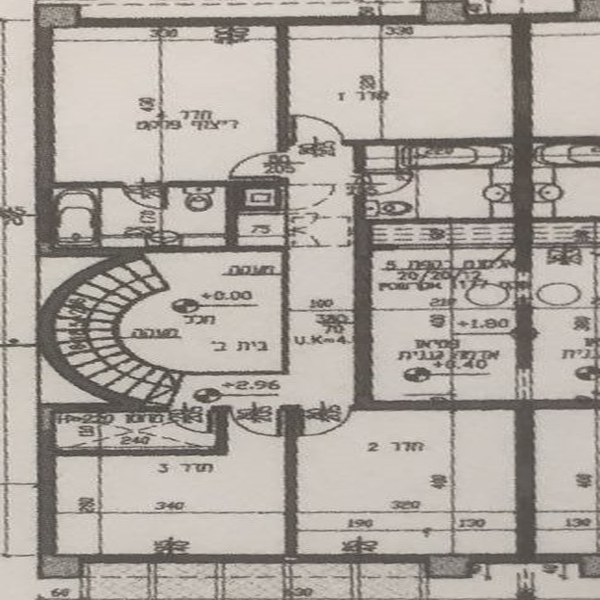door: (293, 110, 345, 155), (298, 401, 358, 439), (226, 404, 281, 444), (284, 211, 327, 249), (228, 151, 277, 180), (290, 182, 339, 210)
room: (31, 17, 297, 256), (362, 128, 545, 408), (287, 394, 548, 566), (31, 399, 300, 564), (267, 10, 539, 146)
wall: (348, 133, 377, 401), (31, 21, 57, 252), (510, 20, 532, 271), (58, 545, 280, 567), (38, 404, 62, 580), (512, 415, 540, 551), (307, 549, 520, 566), (280, 406, 303, 555), (58, 444, 234, 463), (77, 15, 422, 24), (58, 242, 293, 255), (58, 175, 288, 188), (367, 403, 597, 414), (273, 19, 290, 151), (52, 396, 155, 416), (280, 252, 296, 371), (515, 309, 535, 368), (224, 190, 242, 245), (211, 401, 230, 444)
